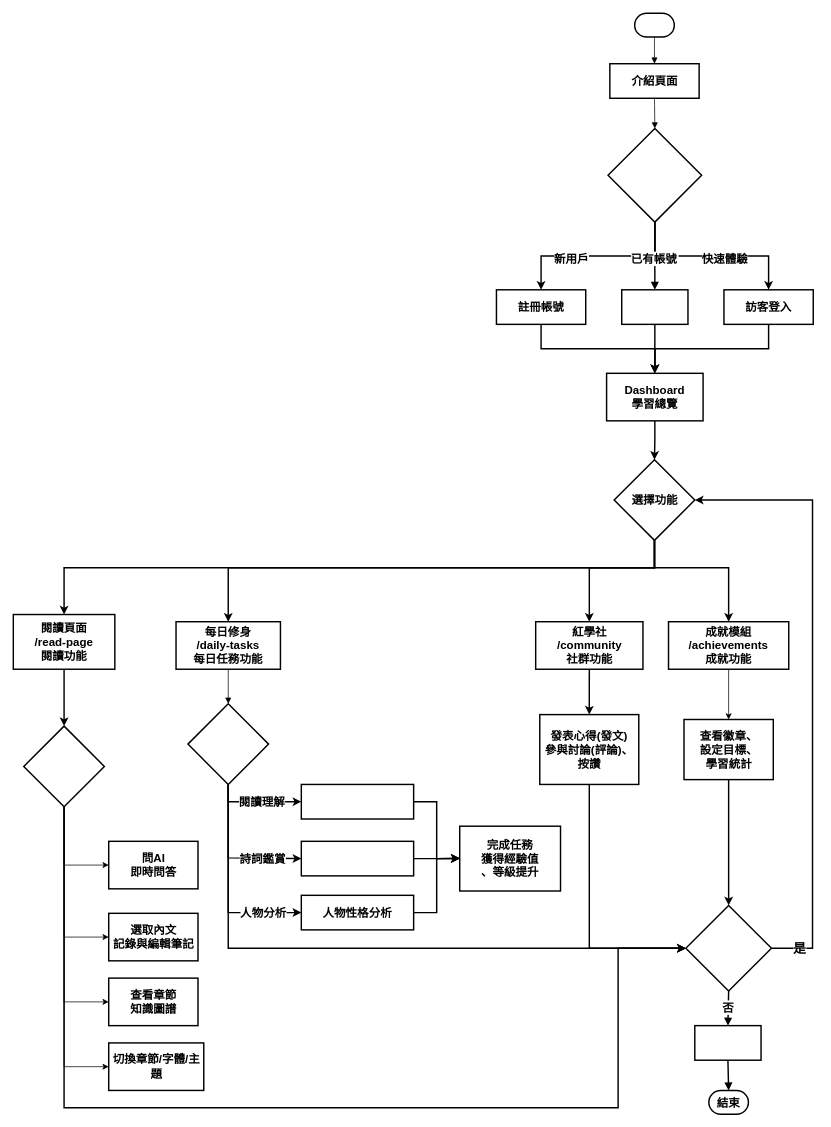
Image size: 831x1127. Some labels were removed from this diagram. The shapes that lost their labels are listed below. From the top down, each one's centre as x and y in pixels, then its label:
At pixel 654 24: "開始".
At pixel 654 174: "用戶 身份選擇".
At pixel 654 307: "登入".
At pixel 228 744: "任務類型".
At pixel 64 766: "閱讀功能".
At pixel 357 801: "閱讀理解測驗".
At pixel 357 858: "詩詞品質評析".
At pixel 728 947: "繼續使用?".
At pixel 727 1043: "登出".
